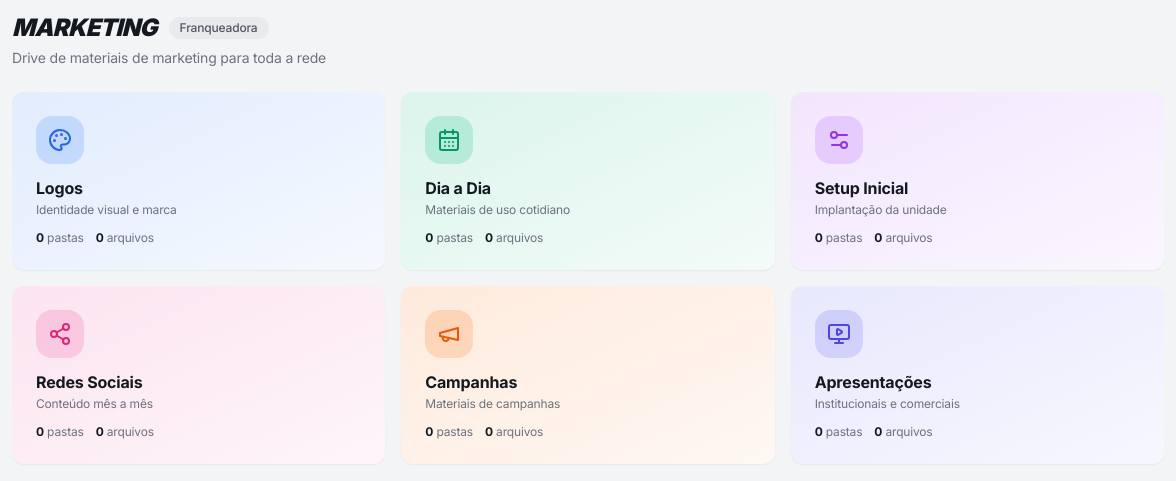
Marketing › navigates into a category when clicked and shows action buttons
Click the heading "Logos" at (59,188), box left=36, top=178, right=83, bottom=198
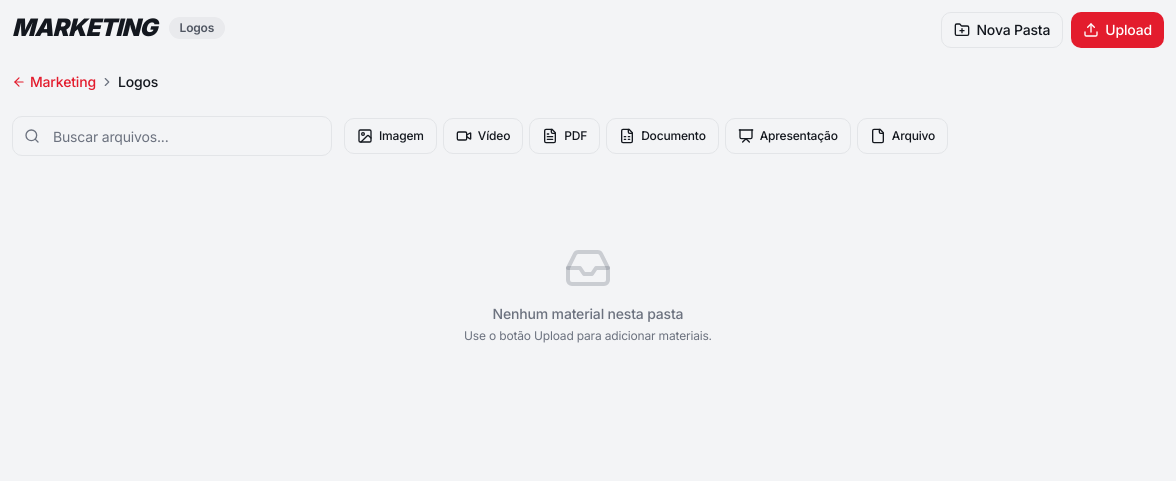
Expected: the button "Nova Pasta" is shown, left=942, top=12, right=1063, bottom=48
Expected: the button "Upload" is shown, left=1071, top=12, right=1164, bottom=48
